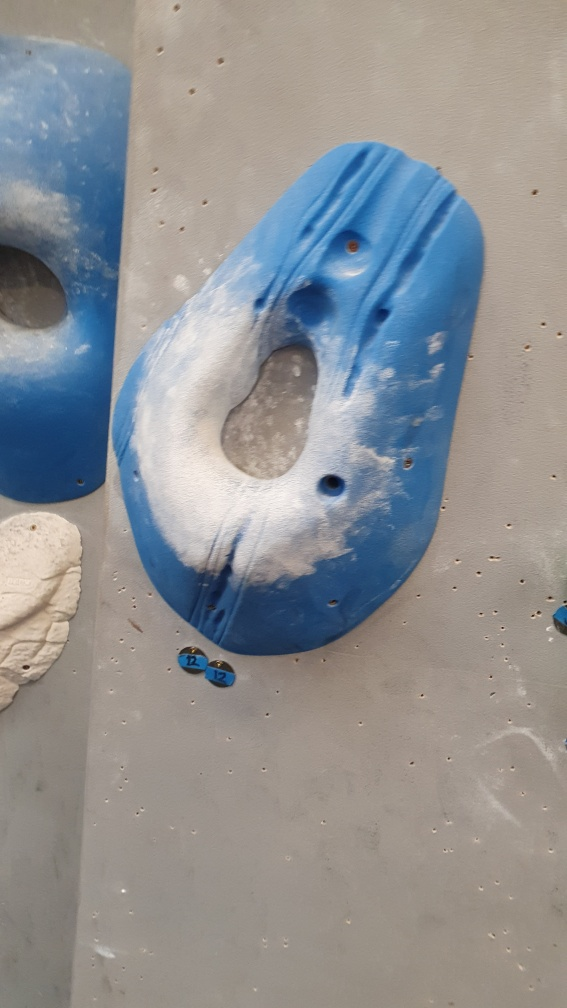Hand Start: (174, 644, 210, 676), (208, 658, 238, 691)
Pocket: (108, 140, 490, 659), (1, 34, 133, 503)
